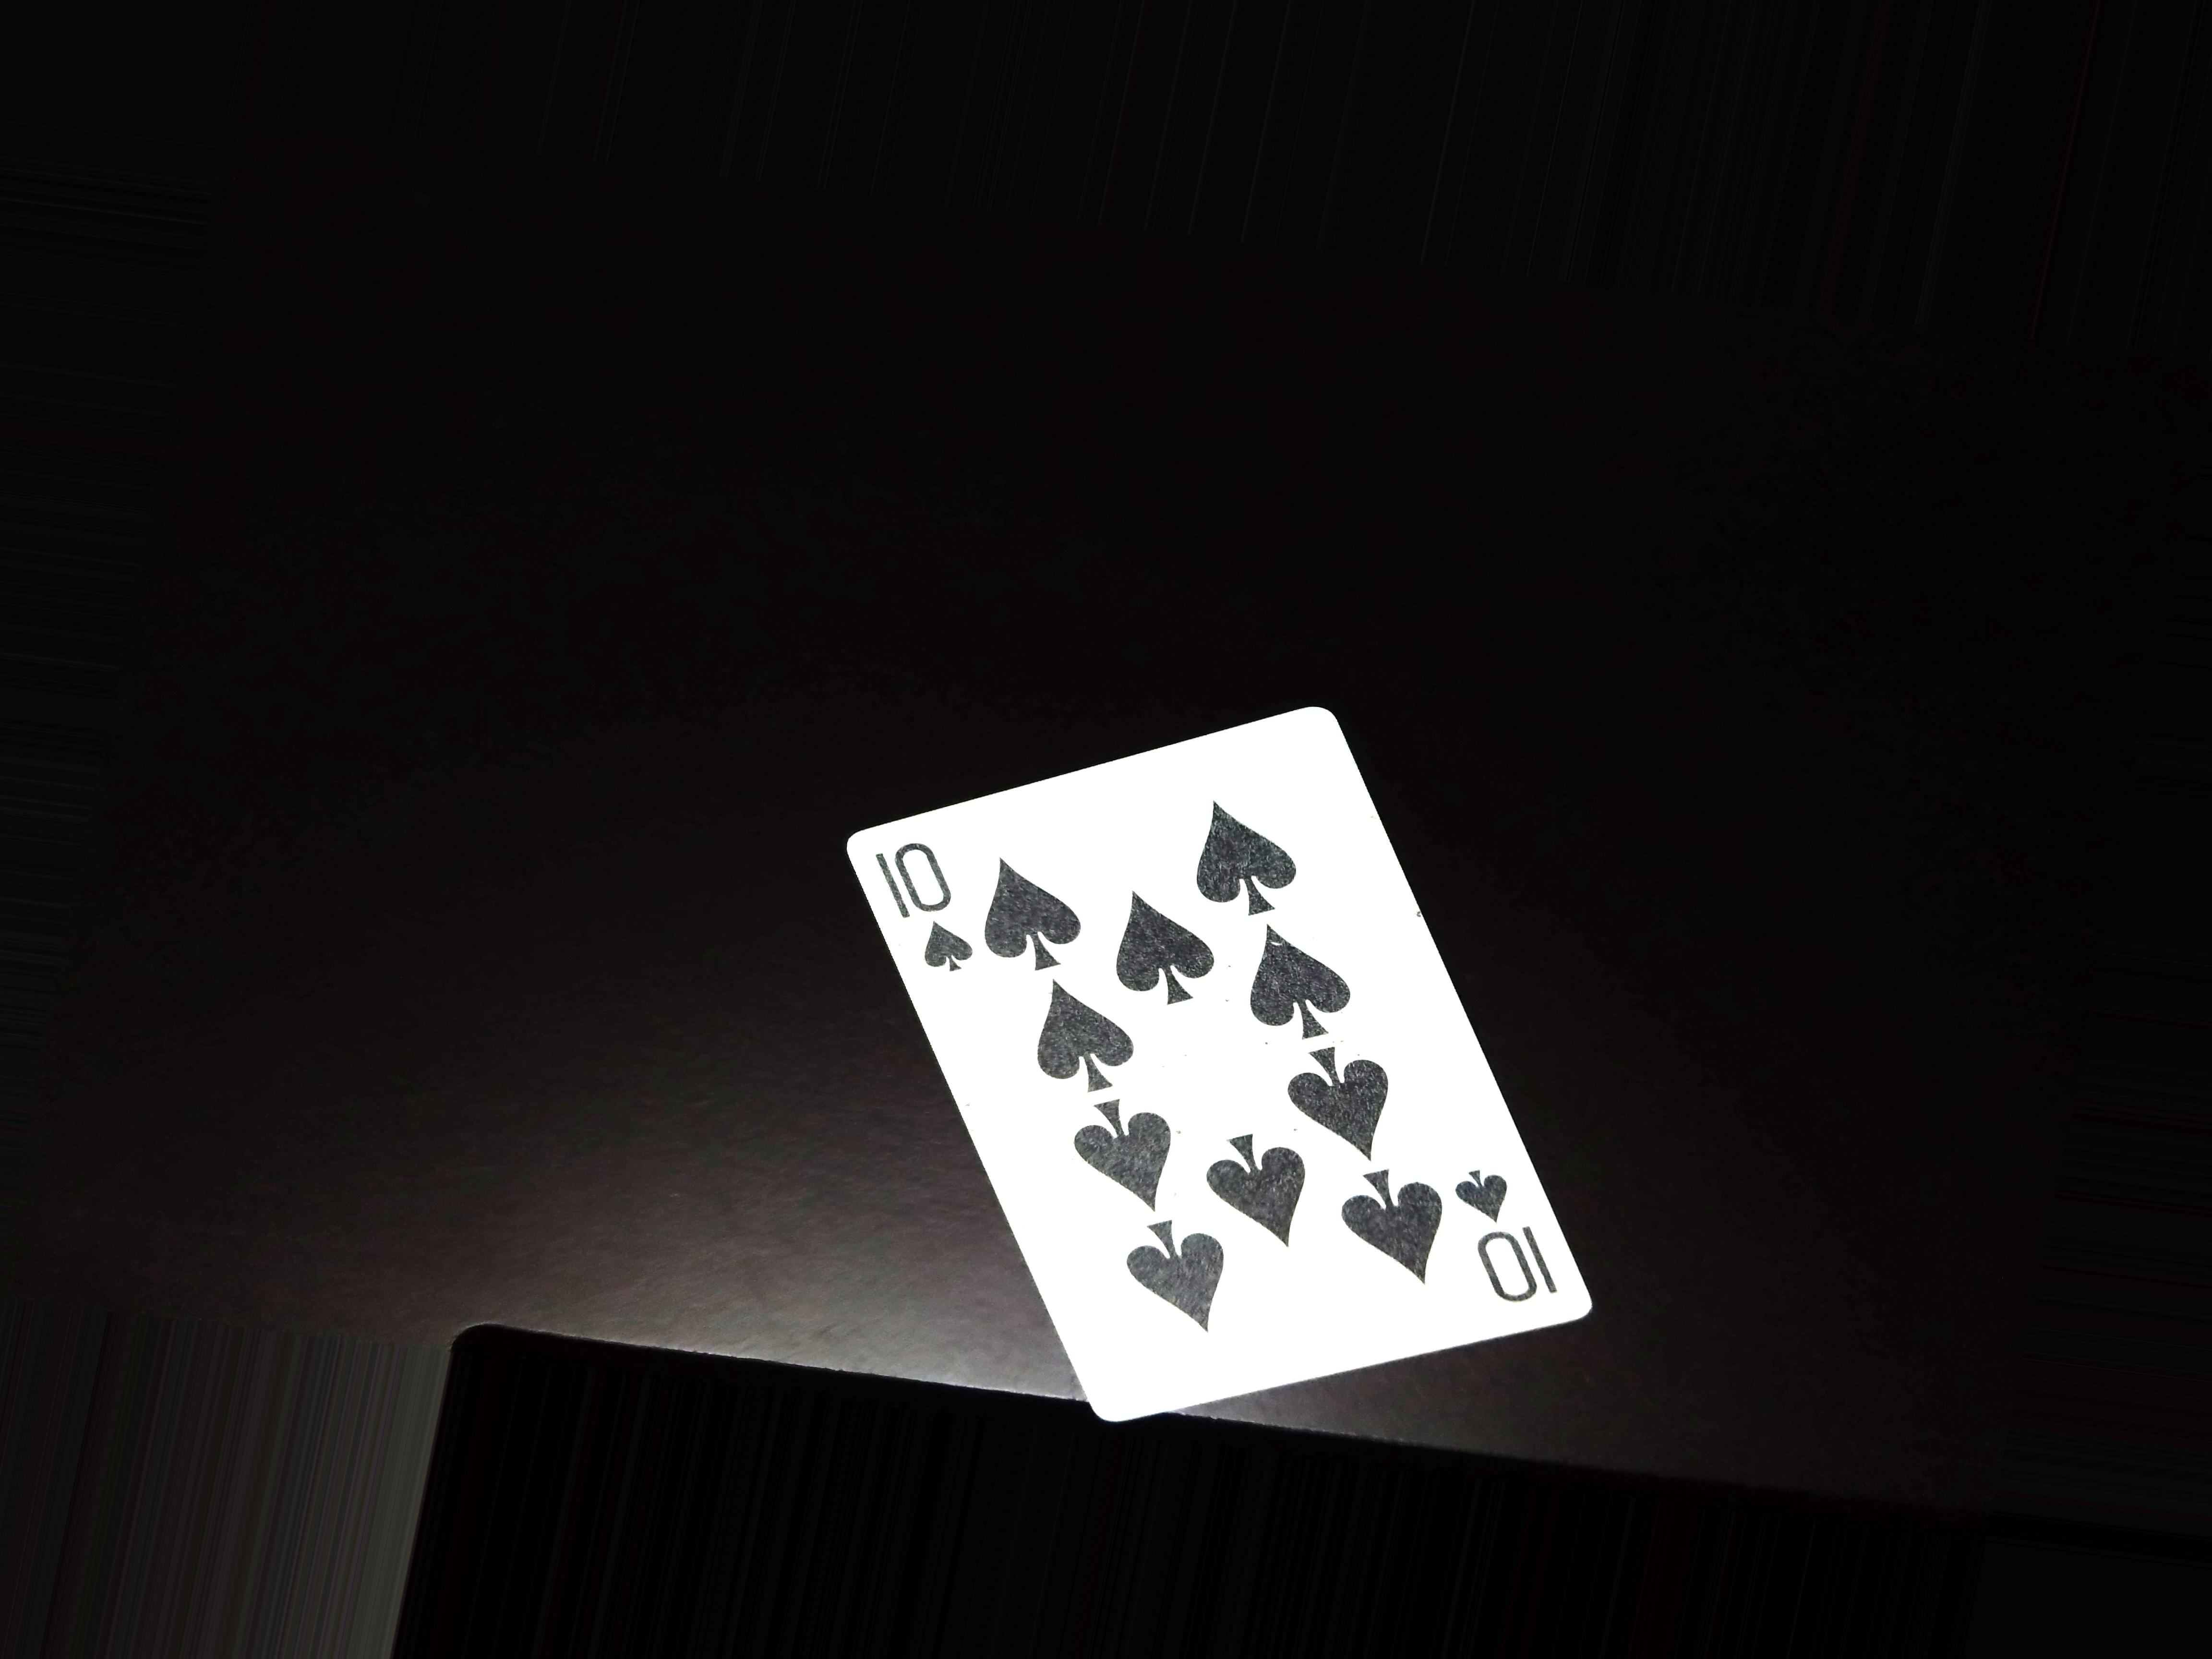10S: (874, 838, 984, 1009)
